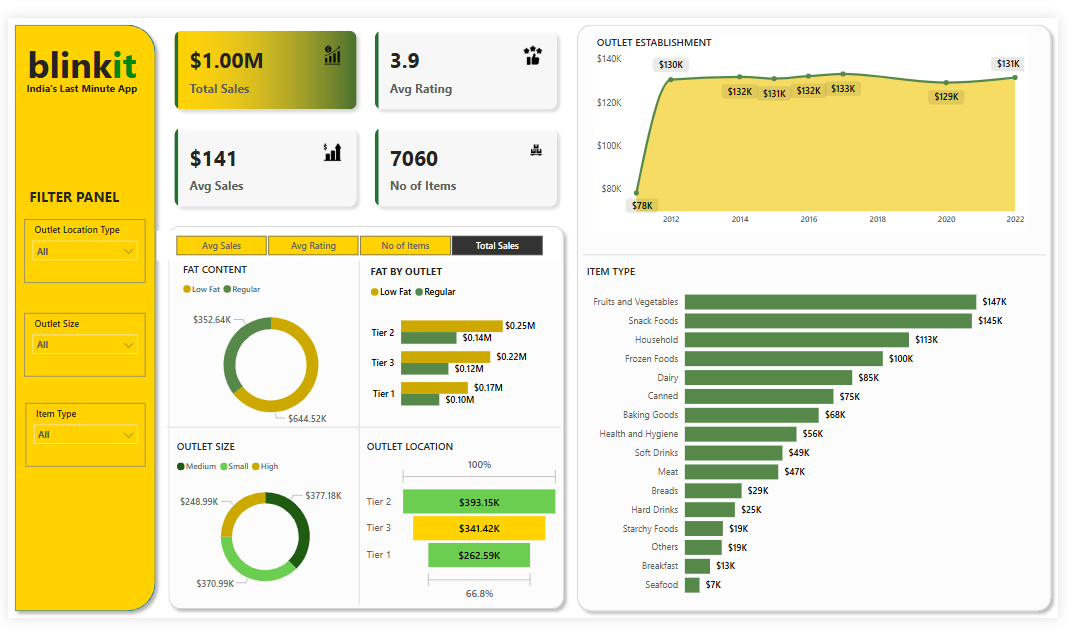

The dashboard page shown, as its layout file describes it:
{"tool":"powerbi","page":{"name":"Page 1","canvas":[1400,800],"ordinal":0},"visuals":[{"type":"shape","box":[205,268.3,545,528.3],"z":0},{"type":"shape","box":[750,0,650,800],"z":1000},{"type":"shape","box":[0,0,205.6,800],"z":2000},{"type":"textbox","box":[0,23.3,196.7,85],"z":3000},{"type":"cardVisual","fields":{"Data":["BlinkIT_Data.Total Sales","BlinkIT_Data.Avg Rating","BlinkIT_Data.Avg Sales","BlinkIT_Data.No of Items"]},"box":[205,0,545,268.3],"z":4000},{"type":"donutChart","title":"FAT CONTENT","fields":{"Y":["BlinkIT_Data.Total Sales"],"Category":["BlinkIT_Data.Item Fat Content"]},"box":[228.3,325,245,230],"z":5000},{"type":"slicer","fields":{"Values":["Metrics.Metrics"]},"box":[198.3,283.3,538.3,40],"z":6000},{"type":"clusteredBarChart","title":"FAT BY OUTLET ","fields":{"Y":["BlinkIT_Data.Total Sales"],"Category":["BlinkIT_Data.Outlet Location Type"],"Series":["BlinkIT_Data.Item Fat Content"]},"box":[478.3,328.3,230,211.7],"z":7000},{"type":"shape","box":[211.7,526.7,525,38.3],"z":8000},{"type":"shape","box":[766.7,285,616.7,61.7],"z":9000},{"type":"barChart","title":"ITEM TYPE","fields":{"Y":["BlinkIT_Data.Total Sales"],"Category":["BlinkIT_Data.Item Type"]},"box":[766.7,328.3,593.3,453.3],"z":10000},{"type":"lineChart","title":"OUTLET ESTABLISHMENT","fields":{"Y":["BlinkIT_Data.Total Sales"],"Category":["BlinkIT_Data.Outlet Establishment Year"]},"box":[780,23.3,580,261.7],"z":11000},{"type":"donutChart","title":"OUTLET SIZE","fields":{"Y":["BlinkIT_Data.Total Sales"],"Category":["BlinkIT_Data.Outlet Size"]},"box":[220,561.7,246.7,215],"z":12000},{"type":"funnel","title":"OUTLET LOCATION","fields":{"Category":["BlinkIT_Data.Outlet Location Type","BlinkIT_Data.Outlet Type"],"Y":["BlinkIT_Data.Total Sales"]},"box":[473.3,561.7,266.7,220],"z":13000},{"type":"slicer","fields":{"Values":["BlinkIT_Data.Outlet Location Type"]},"box":[21.7,268.3,161.7,85],"z":14000},{"type":"slicer","fields":{"Values":["BlinkIT_Data.Outlet Size"]},"box":[21.7,393.3,161.7,85],"z":15000},{"type":"slicer","fields":{"Values":["BlinkIT_Data.Item Type"]},"box":[23.3,513.3,160,85],"z":16000},{"type":"textbox","box":[23.3,220,175,35],"z":17000},{"type":"shape","box":[440,323.3,56.7,458.3],"z":18000},{"type":"textbox","box":[10,80,176.7,55],"z":19000}]}

Visuals, with their boxes on the page's 1400x800 design canvas (x1, y1, x2, y2). These are canvas units, not pixel positions in the 1070x644 screenshot, which may show the page scaled, cropped or inside an application window:
shape: (x1=205, y1=268, x2=750, y2=797)
shape: (x1=750, y1=0, x2=1400, y2=800)
shape: (x1=0, y1=0, x2=206, y2=800)
textbox: (x1=0, y1=23, x2=197, y2=108)
cardVisual - BlinkIT_Data.Total Sales x BlinkIT_Data.Avg Rating: (x1=205, y1=0, x2=750, y2=268)
"FAT CONTENT" donutChart: (x1=228, y1=325, x2=473, y2=555)
slicer - Metrics.Metrics: (x1=198, y1=283, x2=737, y2=323)
"FAT BY OUTLET " clusteredBarChart: (x1=478, y1=328, x2=708, y2=540)
shape: (x1=212, y1=527, x2=737, y2=565)
shape: (x1=767, y1=285, x2=1383, y2=347)
"ITEM TYPE" barChart: (x1=767, y1=328, x2=1360, y2=782)
"OUTLET ESTABLISHMENT" lineChart: (x1=780, y1=23, x2=1360, y2=285)
"OUTLET SIZE" donutChart: (x1=220, y1=562, x2=467, y2=777)
"OUTLET LOCATION" funnel: (x1=473, y1=562, x2=740, y2=782)
slicer - BlinkIT_Data.Outlet Location Type: (x1=22, y1=268, x2=183, y2=353)
slicer - BlinkIT_Data.Outlet Size: (x1=22, y1=393, x2=183, y2=478)
slicer - BlinkIT_Data.Item Type: (x1=23, y1=513, x2=183, y2=598)
textbox: (x1=23, y1=220, x2=198, y2=255)
shape: (x1=440, y1=323, x2=497, y2=782)
textbox: (x1=10, y1=80, x2=187, y2=135)
